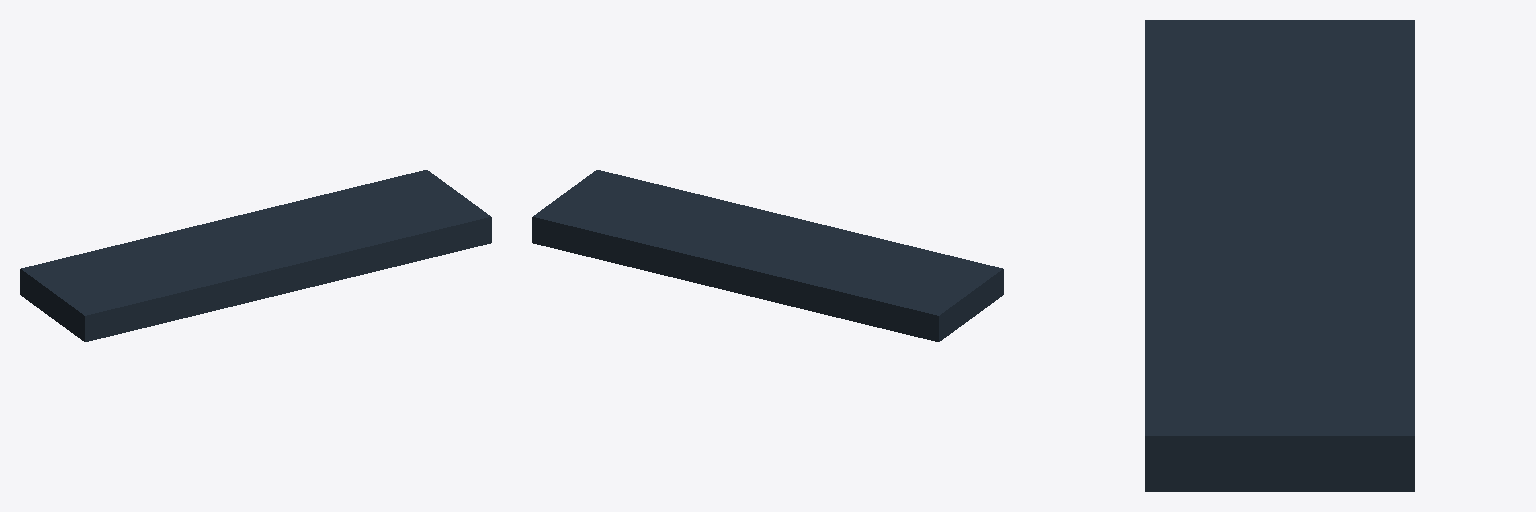
The robot description file, URDF, robot "skateboard":
<?xml version="1.0" ?>
<robot name="skateboard">
  <dynamics damping="0.5" friction="0.9"/>
  <link name="skateboard_link">
    <inertial>
      <mass value="0.1"/>
      <origin xyz="0 0 0"/>
      <inertia ixx="0.002" ixy="0" ixz="0" iyy="0.002" iyz="0" izz="0.002"/>
    </inertial>
    <contact>
      <lateral_friction value="0.9"/>
      <rolling_friction value="0.5"/>
      <stiffness value="30000"/>
      <damping value="1000"/>
    </contact>
    <visual>
      <origin rpy="0 0 0" xyz="0 0 0"/>
      <geometry>
        <mesh filename="skateboard.obj" scale="1.0 1.0 1.0"/>
      </geometry>
      <material name="mat">
        <color rgba="0.2 0.25 0.3 0.9"/>
      </material>
    </visual>
    <collision name="skateboard">
      <origin rpy="0 0 0" xyz="0 0 0"/>
      <geometry>
        <mesh filename="skateboard.obj" scale="1.0 1.0 1.0"/>
      </geometry>
    </collision>
  </link>
</robot>

--- Facts derived from the render (not from the file) ---
3 views of the same robot in one strip: view 1: azimuth 30°, elevation 25°; view 2: azimuth 150°, elevation 25°; view 3: azimuth 270°, elevation 25° (orthographic).
Model skateboard with 1 links and 0 joints (none), rooted at skateboard_link, posed all joints at 0.
Links seen in each view (by area): view 1: skateboard_link; view 2: skateboard_link; view 3: skateboard_link.
Boxes of the visible links, x1=… form: skateboard_link: x1=20, y1=170, x2=491, y2=341; skateboard_link: x1=532, y1=170, x2=1003, y2=341; skateboard_link: x1=1145, y1=20, x2=1414, y2=491.
Size in the robot's own frame: 0.8 by 0.22 by 0.05 metres.
1 mesh visuals loaded from 1 distinct referenced files (1 OBJ).
